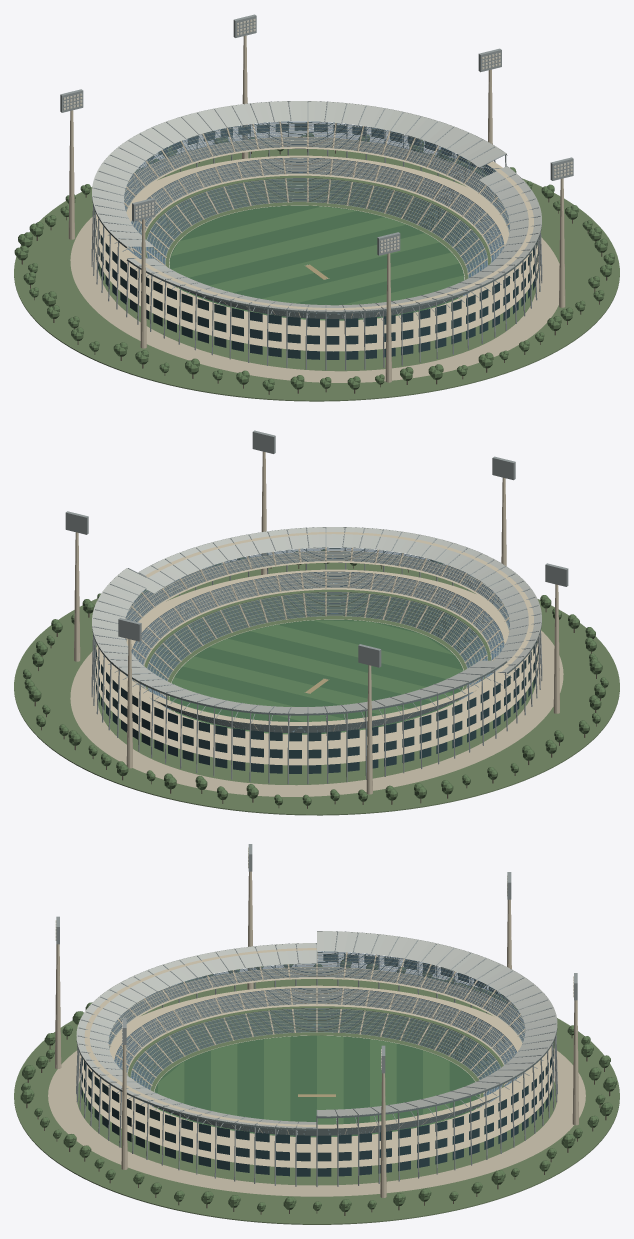
Rendered from mcg.glb.
3 views of the same model, one above another, from view 1: azimuth 30°, elevation 25°; view 2: azimuth 150°, elevation 25°; view 3: azimuth 270°, elevation 25° (orthographic).
Visible parts, largest first — view 1: mcg_grass, mcg_lightstone, mcg_darkroof, mcg_roof, mcg_seat, mcg_field, mcg_stripe, mcg_glass, mcg_path, mcg_steel, mcg_seat2, mcg_leaf (+1 smaller); view 2: mcg_grass, mcg_lightstone, mcg_darkroof, mcg_roof, mcg_seat, mcg_field, mcg_stripe, mcg_steel, mcg_path, mcg_glass, mcg_seat2, mcg_leaf; view 3: mcg_grass, mcg_lightstone, mcg_darkroof, mcg_roof, mcg_seat, mcg_field, mcg_path, mcg_stripe, mcg_glass, mcg_steel, mcg_seat2, mcg_leaf.
Part boxes in pixels (x1,y1,x2,y2): mcg_grass: (14,148,619,401); mcg_lightstone: (68,35,565,382); mcg_darkroof: (92,101,541,319); mcg_roof: (92,101,541,311); mcg_seat: (124,121,509,317); mcg_field: (169,205,464,320); mcg_stripe: (171,206,463,320); mcg_glass: (95,123,538,359); mcg_path: (70,214,559,382); mcg_steel: (60,14,573,370); mcg_seat2: (124,123,509,314); mcg_leaf: (14,132,614,391); mcg_grass: (14,562,619,815); mcg_lightstone: (74,451,559,794); mcg_darkroof: (92,527,541,733); mcg_roof: (92,527,541,713); mcg_seat: (125,548,509,731); mcg_field: (169,619,463,734); mcg_stripe: (172,620,463,734); mcg_steel: (65,430,568,784); mcg_path: (70,630,563,796); mcg_glass: (95,562,538,773); mcg_seat2: (126,547,509,732); mcg_leaf: (23,549,608,805); mcg_grass: (14,974,619,1224); mcg_lightstone: (55,871,578,1197); mcg_darkroof: (76,931,557,1135); mcg_roof: (76,931,557,1128); mcg_seat: (108,951,525,1132); mcg_field: (154,1035,479,1137); mcg_path: (48,1005,585,1196); mcg_stripe: (158,1035,449,1136); mcg_glass: (80,953,553,1176); mcg_steel: (56,844,577,1186); mcg_seat2: (108,953,525,1107); mcg_leaf: (20,959,616,1211).
Bounding box in the file's own units: 16 × 4.28 × 16.
